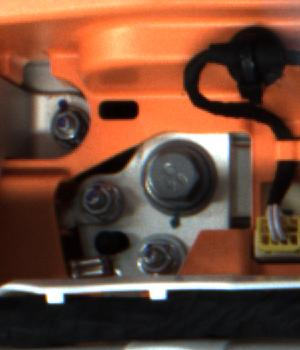nut_b: (138, 135, 217, 217)
screw_s: (82, 181, 122, 220), (138, 235, 178, 272), (47, 101, 78, 141)
